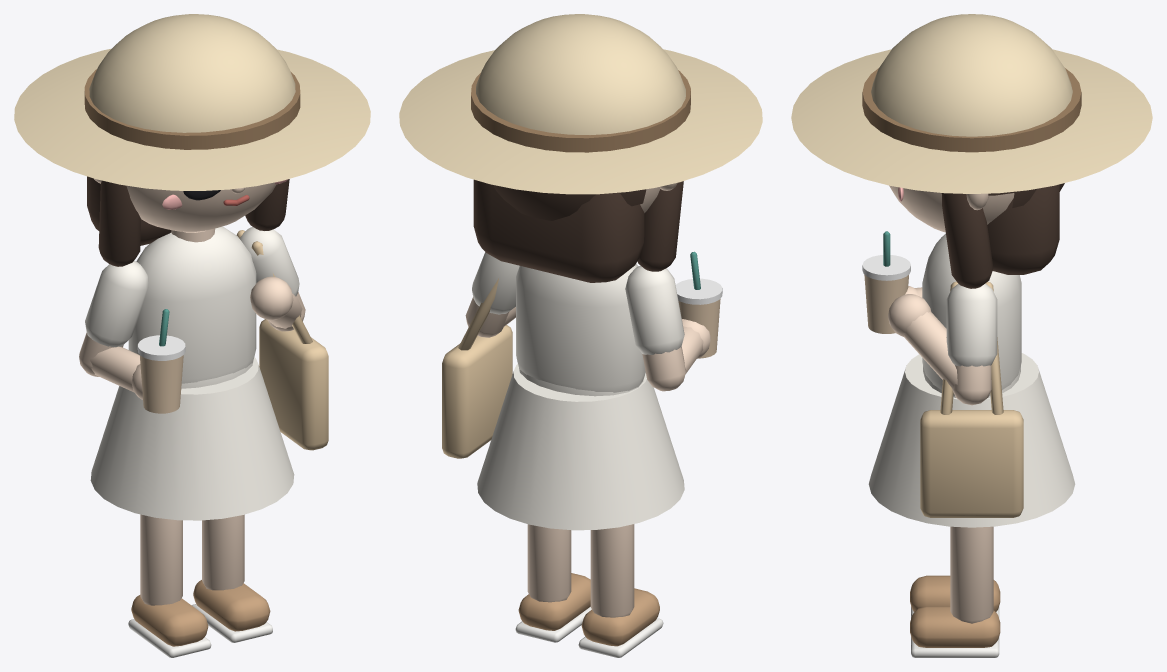
Rendered from Customer_SunHat.fbx.
3 views of the same model, side by side, from view 1: azimuth 30°, elevation 25°; view 2: azimuth 150°, elevation 25°; view 3: azimuth 270°, elevation 25° (orthographic).
Parts seen in each view (by area): view 1: Head.001, Body.001, Arm_L.001, Leg_L.001, Leg_R.001, Arm_R.001; view 2: Head.001, Body.001, Arm_L.001, Leg_L.001, Leg_R.001, Arm_R.001; view 3: Head.001, Body.001, Arm_R.001, Leg_R.001, Arm_L.001, Leg_L.001.
Boxes of the visible parts, left/top/right/bottom form: Head.001: left=14, top=14, right=370, bottom=266; Body.001: left=90, top=226, right=328, bottom=520; Arm_L.001: left=79, top=260, right=185, bottom=413; Leg_L.001: left=128, top=514, right=211, bottom=657; Leg_R.001: left=192, top=514, right=272, bottom=642; Arm_R.001: left=239, top=226, right=305, bottom=331; Head.001: left=399, top=14, right=762, bottom=282; Body.001: left=442, top=263, right=684, bottom=530; Arm_L.001: left=625, top=251, right=722, bottom=391; Leg_L.001: left=578, top=524, right=663, bottom=657; Leg_R.001: left=515, top=524, right=591, bottom=642; Arm_R.001: left=465, top=252, right=519, bottom=337; Head.001: left=791, top=14, right=1152, bottom=288; Body.001: left=868, top=233, right=1075, bottom=527; Arm_R.001: left=888, top=283, right=997, bottom=405; Leg_R.001: left=910, top=526, right=1000, bottom=657; Arm_L.001: left=862, top=231, right=922, bottom=333; Leg_L.001: left=910, top=575, right=1000, bottom=618.
Bounding box in the file's own units: 0.7 × 1.3 × 0.7.
